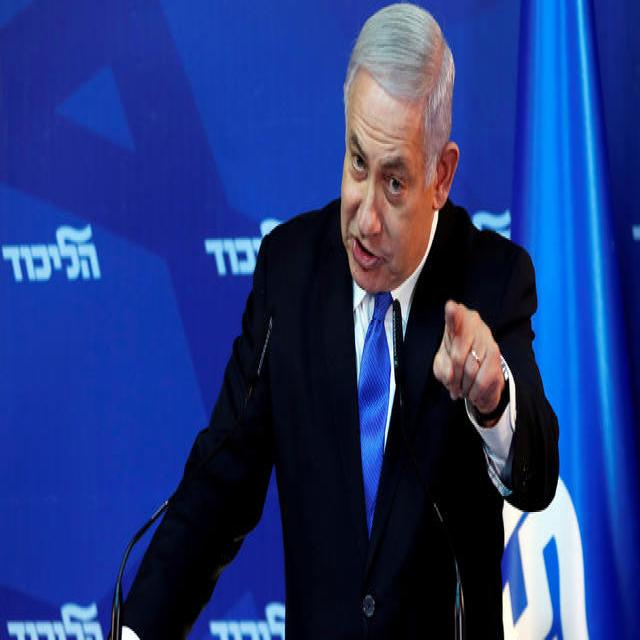human: (122, 0, 561, 640)
